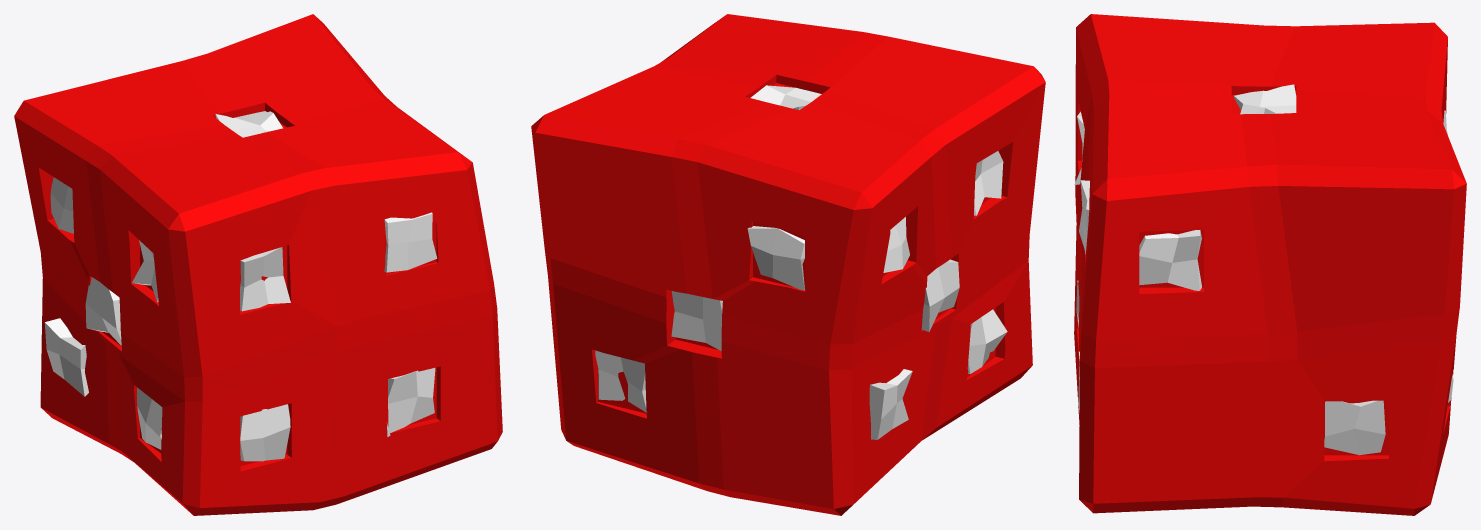
File: 7_ugly_dice_red.gltf
3 views of the same model, side by side, from view 1: azimuth 30°, elevation 25°; view 2: azimuth 150°, elevation 25°; view 3: azimuth 270°, elevation 25° (orthographic). The views are drawn at different scales.
Visible parts, largest first — view 1: D6_Dice_Red; view 2: D6_Dice_Red; view 3: D6_Dice_Red.
Boxes of the visible parts, x1=… form: D6_Dice_Red: x1=14, y1=14, x2=502, y2=515; D6_Dice_Red: x1=531, y1=14, x2=1045, y2=515; D6_Dice_Red: x1=1074, y1=14, x2=1466, y2=515.
Size of the model in its own units: 2.25 by 2.15 by 2.12.
